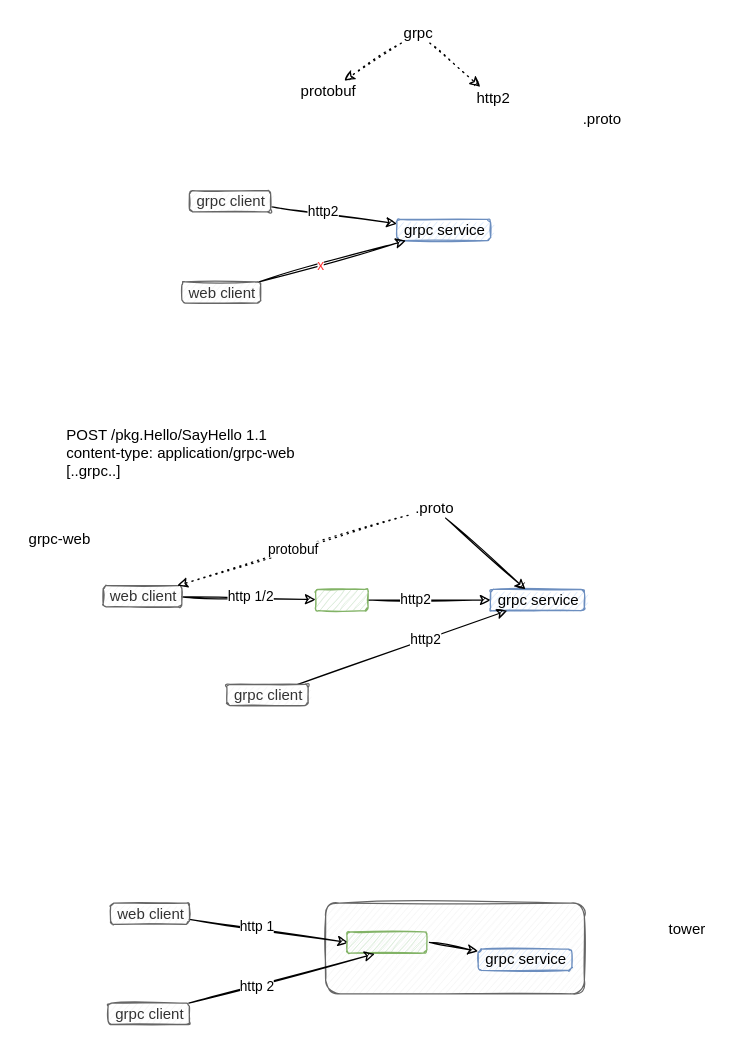
Some shapes in this 731 by 1046 pixel diagram are drawn without their labels. The shapes that lost their labels are listed below. From the top down, each one's box as (x1, y1, x2, y2) in pixels, then its label:
(314, 588, 368, 611): envoy
(346, 931, 427, 953): tonic_web
(324, 902, 584, 994): 同一进程
